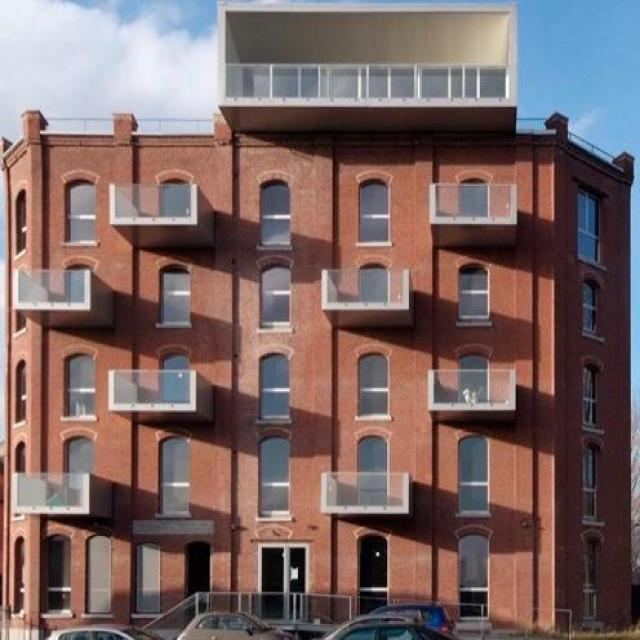door: (259, 540, 306, 620)
railing: (228, 63, 513, 96), (327, 267, 404, 303), (326, 472, 407, 505), (116, 183, 191, 217), (436, 182, 515, 214), (17, 268, 87, 304), (18, 470, 86, 506), (433, 371, 510, 402), (118, 370, 194, 401), (42, 115, 115, 137), (133, 117, 214, 135)
window: (158, 433, 195, 512), (260, 432, 292, 513), (459, 532, 489, 618), (359, 533, 388, 615), (358, 174, 393, 241), (460, 435, 490, 510), (260, 178, 293, 246), (456, 259, 492, 320), (46, 532, 74, 610), (88, 533, 116, 610), (68, 181, 100, 242), (359, 350, 389, 415), (262, 352, 290, 421), (68, 351, 98, 413), (136, 542, 162, 608), (161, 265, 191, 320), (263, 264, 290, 325), (580, 189, 601, 259), (585, 538, 601, 619), (585, 444, 601, 523), (584, 359, 601, 426), (357, 438, 388, 473), (67, 434, 97, 469), (585, 272, 601, 331), (462, 352, 492, 369), (160, 356, 191, 371)
